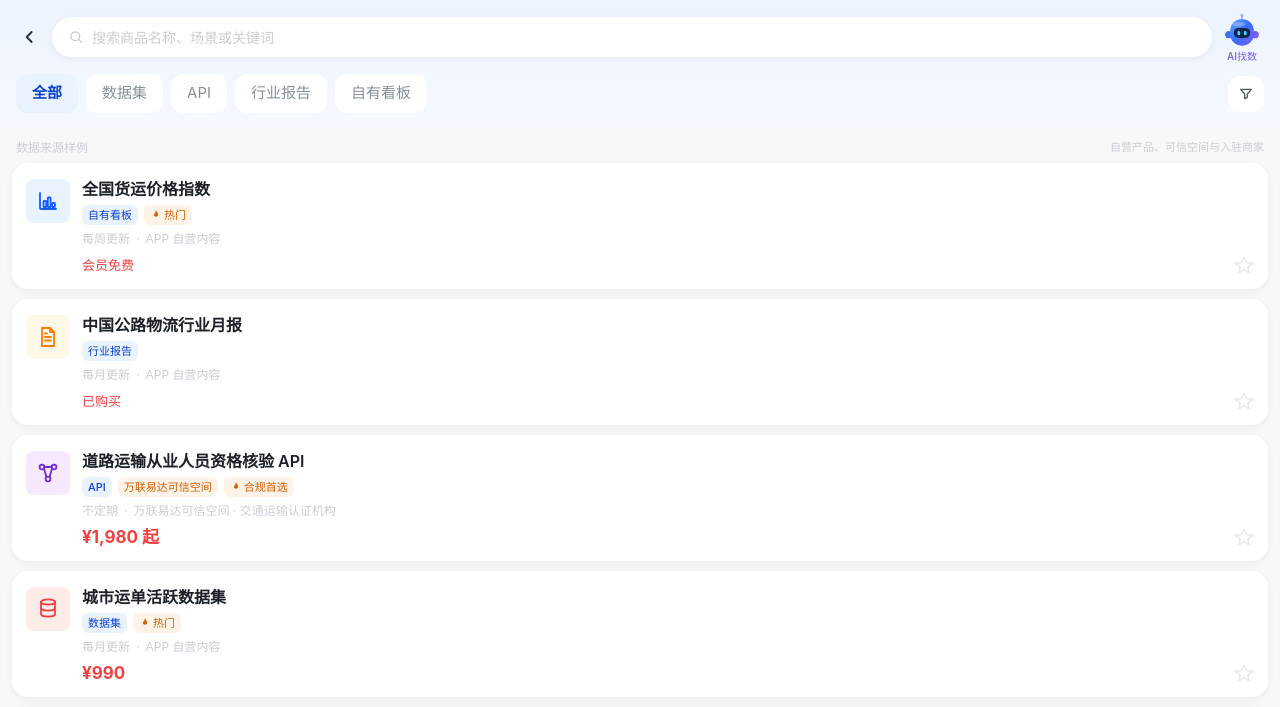
Scenario: DiscoverHome › does not auto-send keyword text and preserves it when returning
Type "煤炭运价" into the field with placeholder "搜索商品名称、场景或关键词" at (644, 37), box [92,26,1196,48]
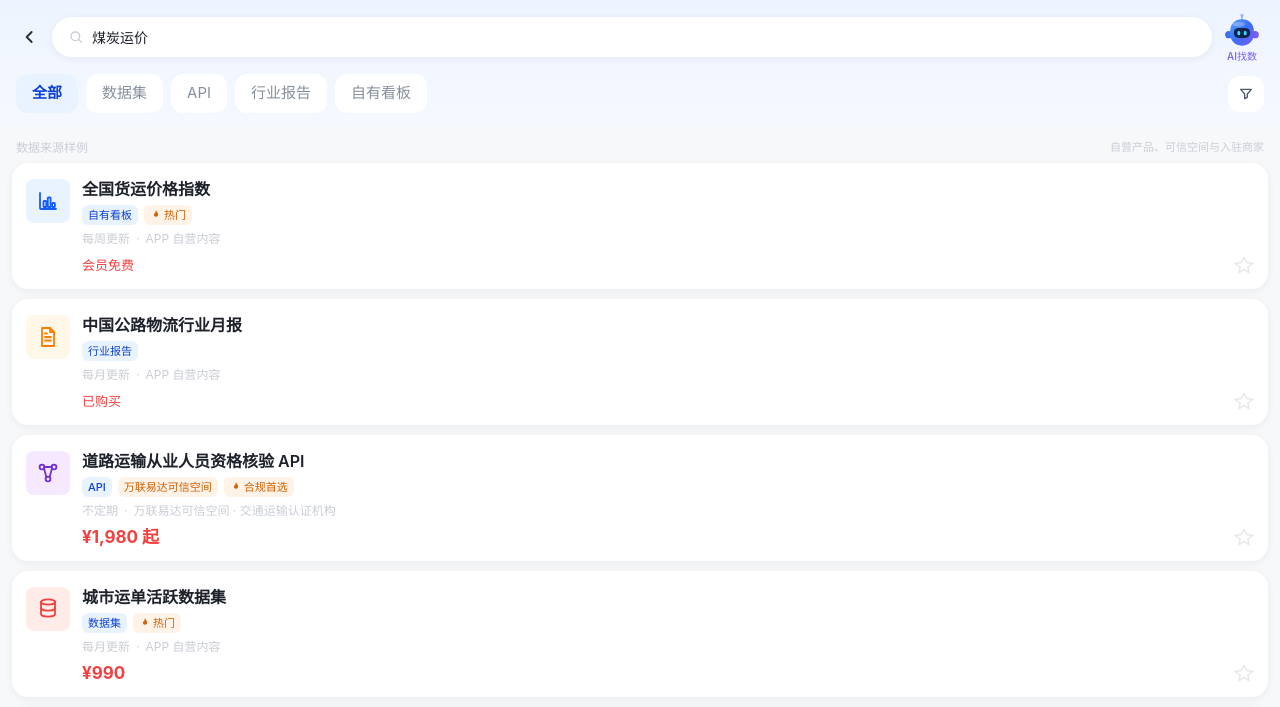
Click the button with test id "discover-mode-ai" at (1242, 37), box [1220,12,1264,62]
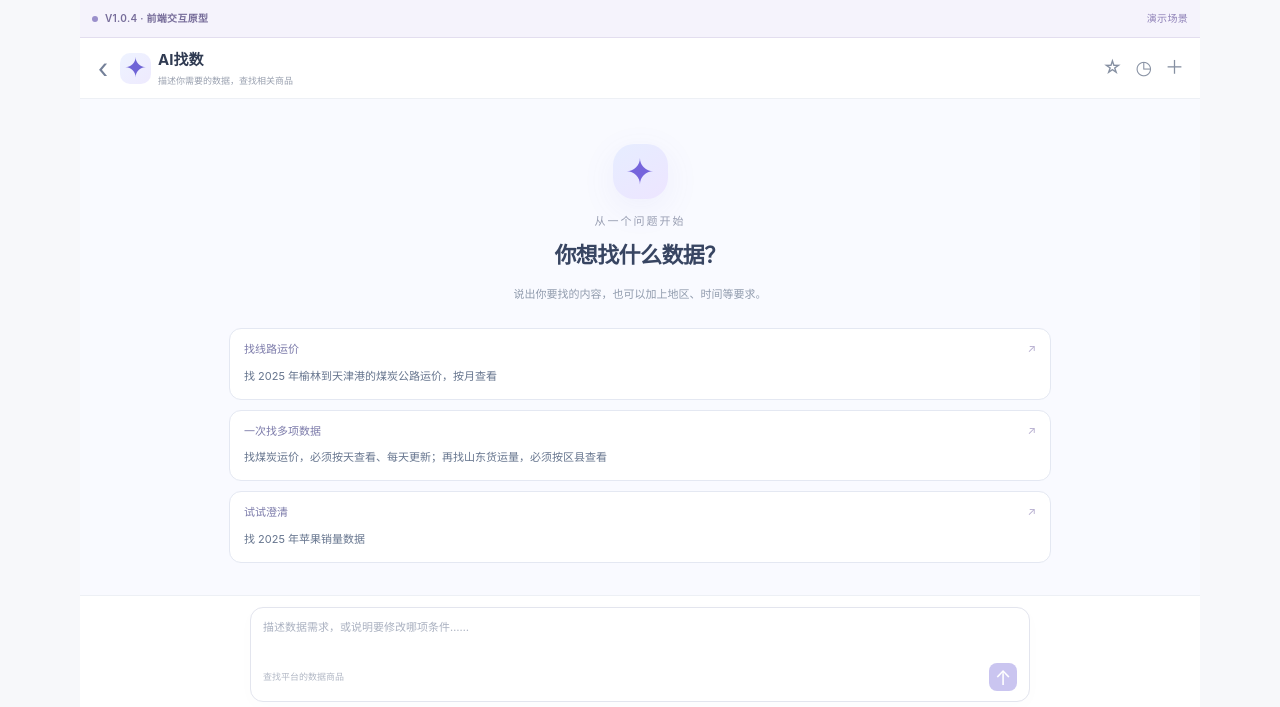
Click the button named "返回关键词找数" at (103, 68), box [93,54,113,82]
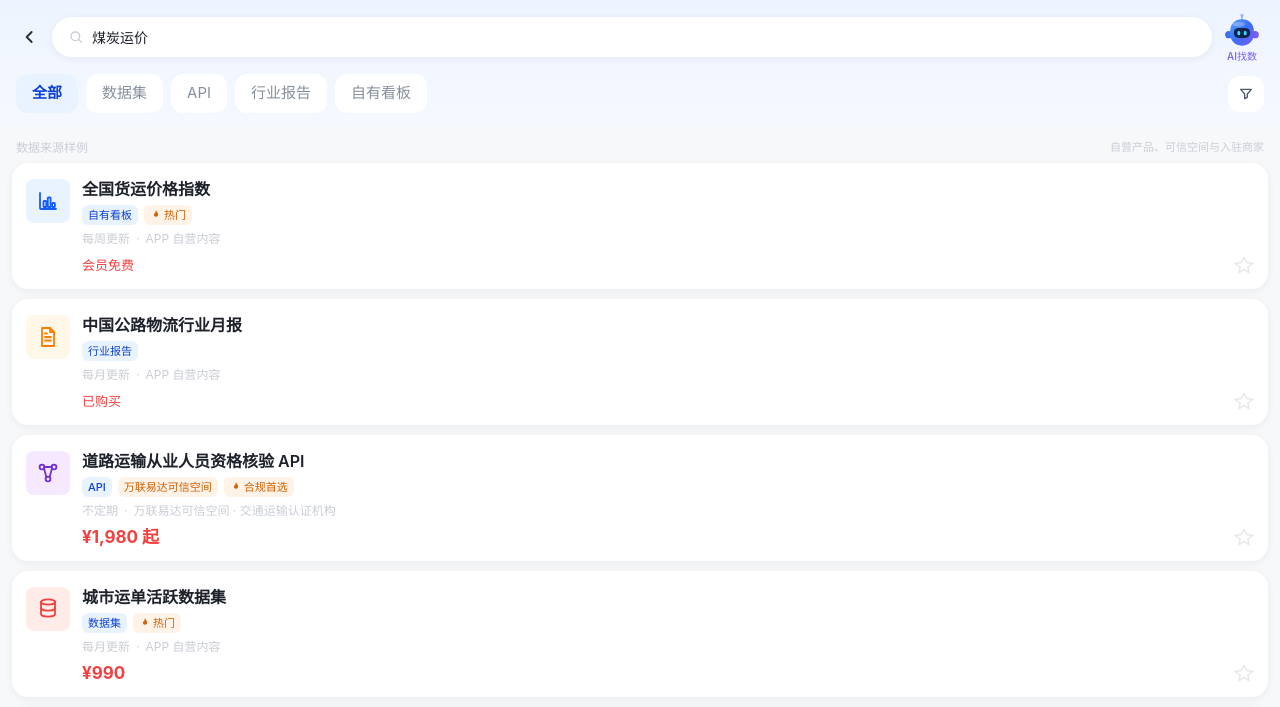
Expected: the field with placeholder "搜索商品名称、场景或关键词" holds "煤炭运价", [92,26,1196,48]
